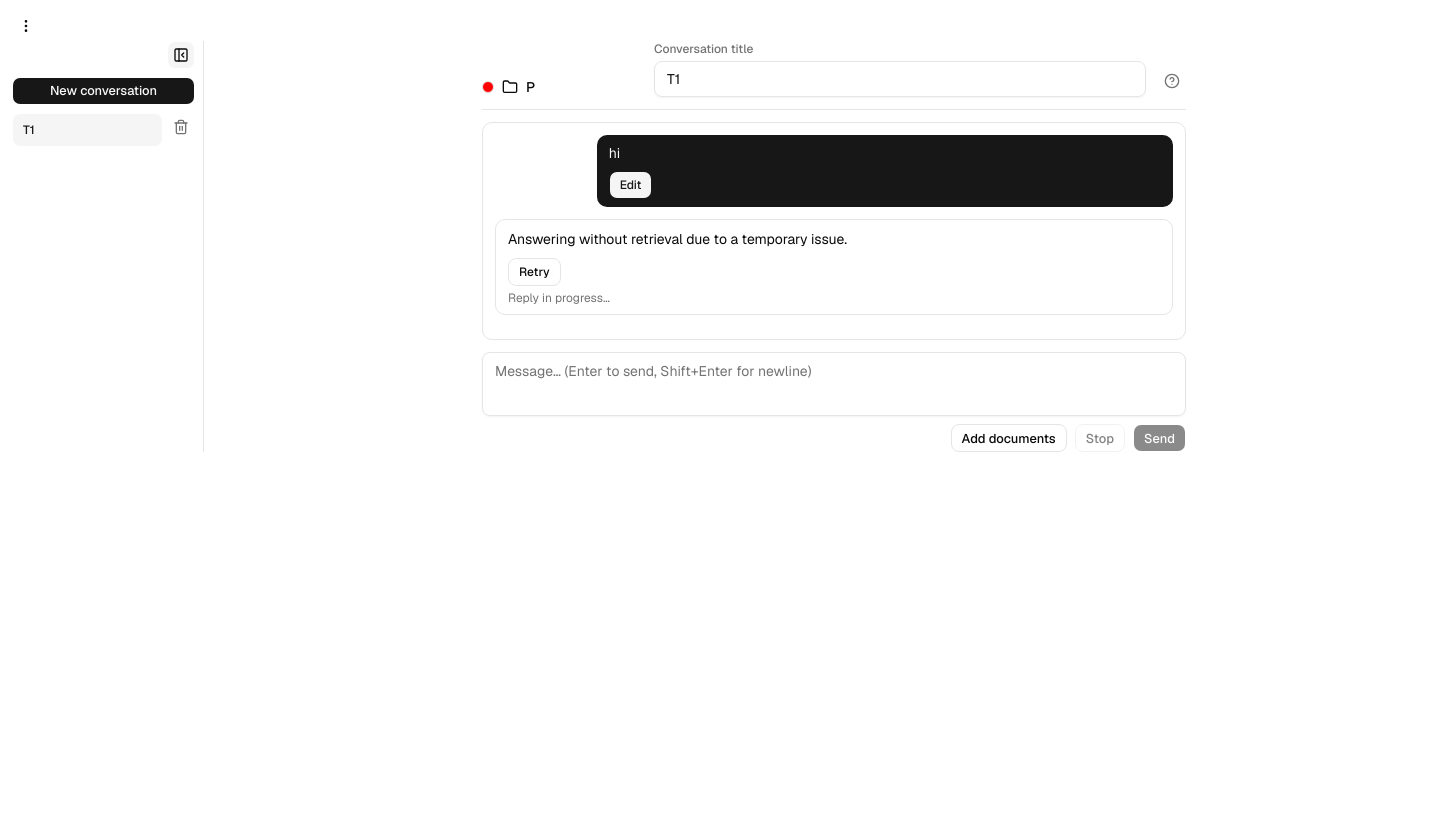
Test: ChatPage › shows experimental preset label (P4/P6) when selectedPresetId is experimental (never Recommended Default)
Click the button "T1" at (88, 130), box [12,113,163,147]
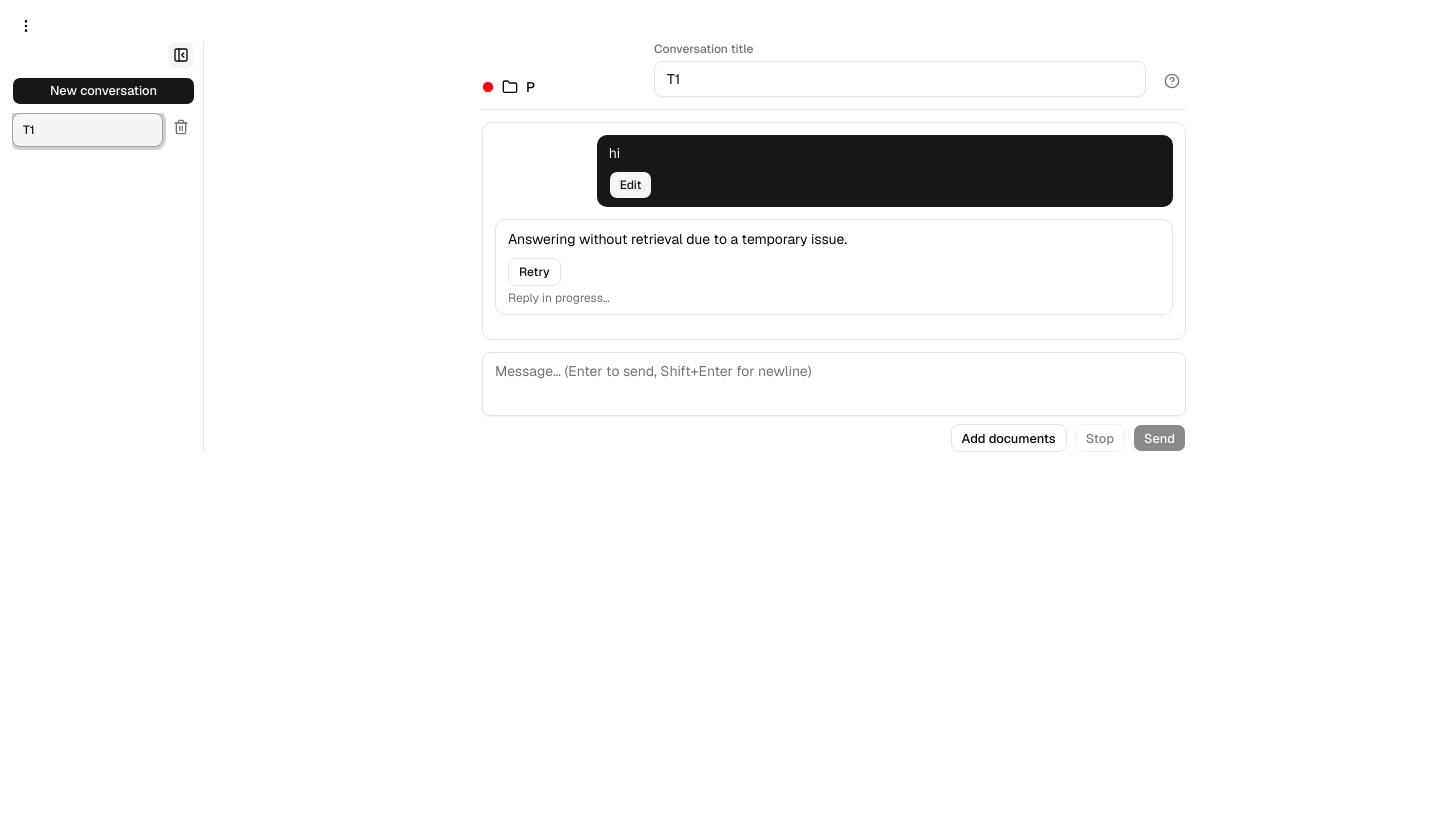
Click the button with test id "chat-config-trigger" at (26, 26), box [12,12,40,40]
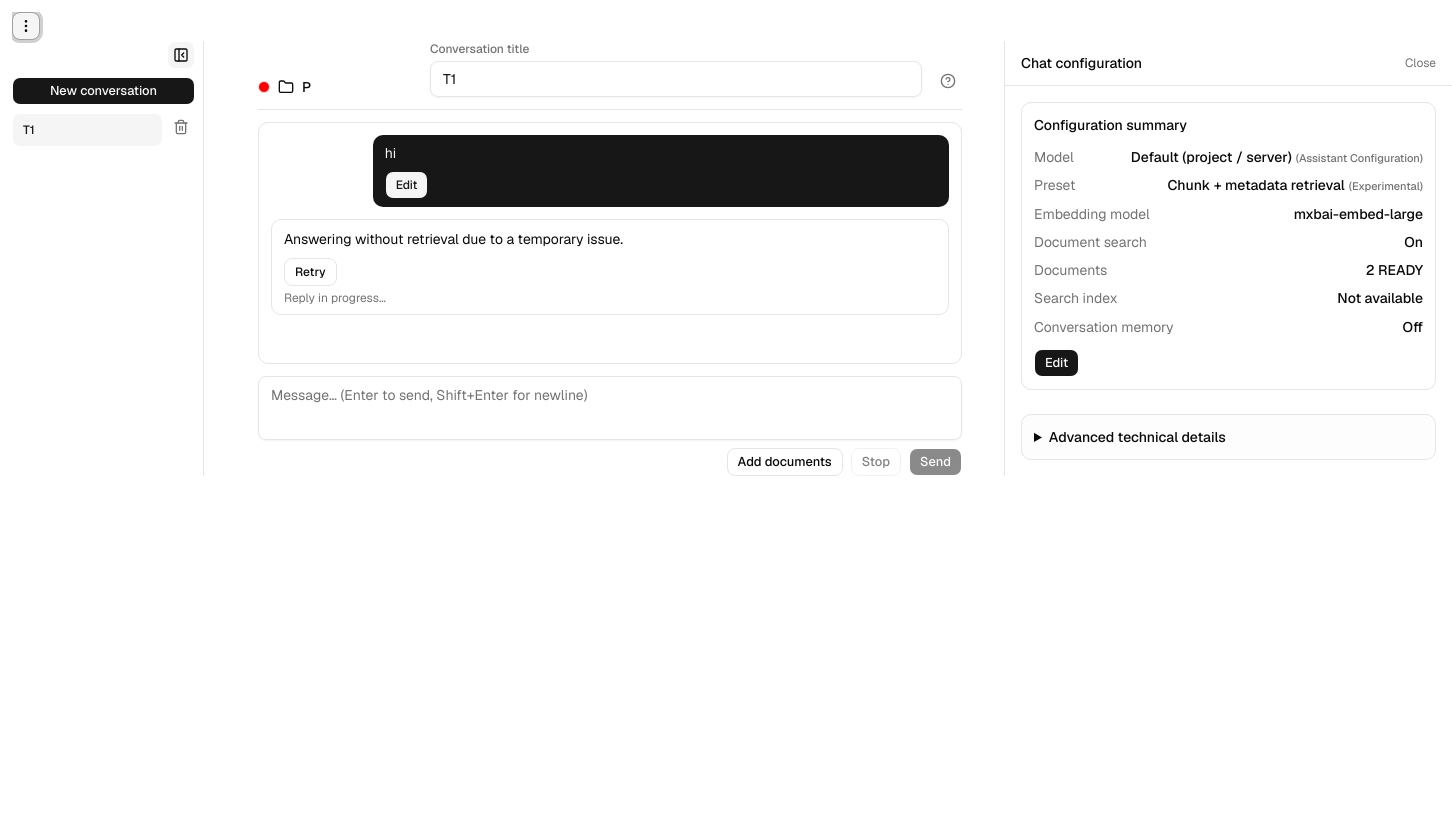
Check: the element with test id "chat-configuration-side-panel" is shown, box [1004,41,1451,476]
Click the button with test id "chat-config-edit-button" at (1057, 363), box [1034,349,1079,377]
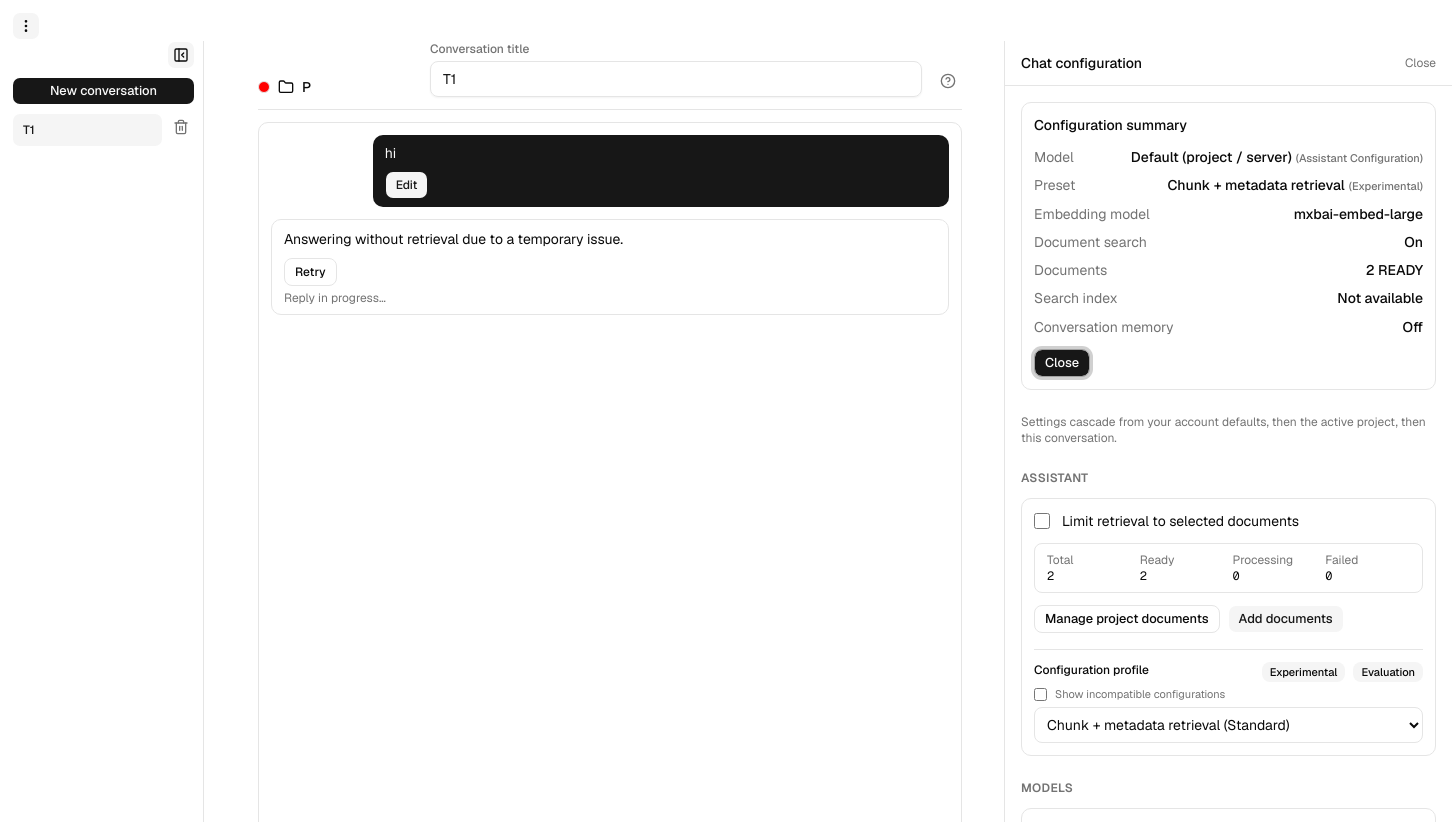
Check: the dropdown labelled "Configuration profile" shows "Chunk + metadata retrieval (Standard)", box [1034,707,1423,743]
